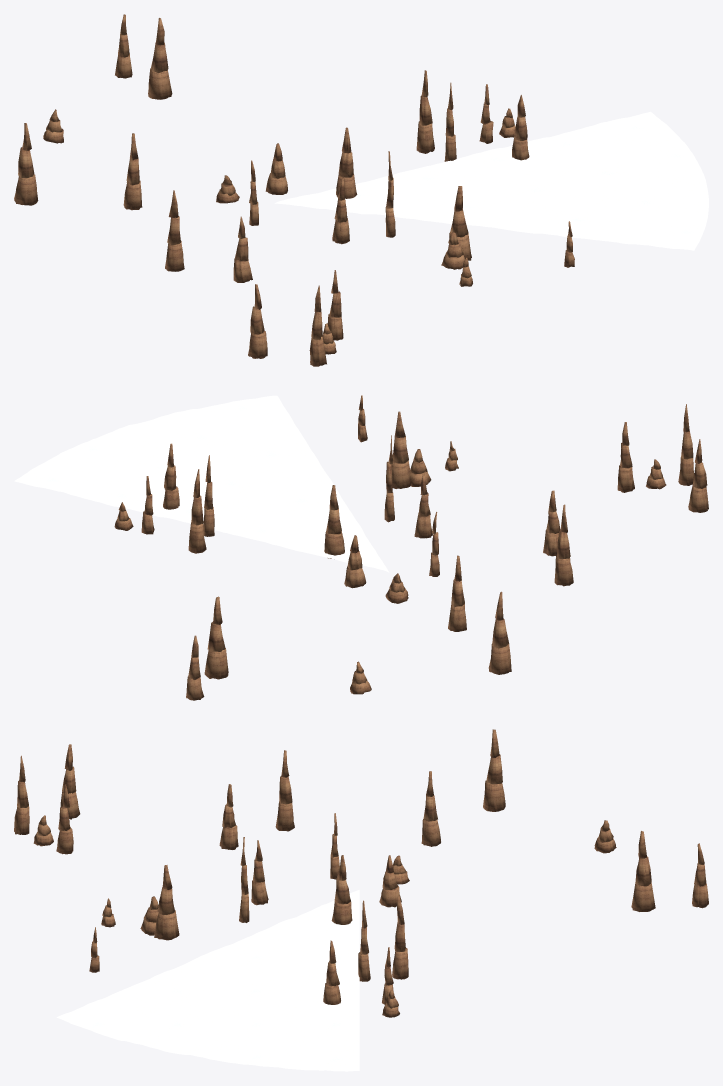
File: map_acid_02.glb
The picture shows the model from 3 angles, top to bottom: view 1: azimuth 30°, elevation 25°; view 2: azimuth 150°, elevation 25°; view 3: azimuth 270°, elevation 25°; orthographic projection.
Visible parts, largest first — view 1: AcidPool_7__acid_00, AcidSpires__cliff, AcidPool_7__acid_01; view 2: AcidPool_7__acid_00, AcidSpires__cliff, AcidPool_7__acid_01; view 3: AcidPool_7__acid_00, AcidSpires__cliff, AcidPool_7__acid_01.
Boxes of the visible parts, bbox=[...] form: AcidPool_7__acid_00: bbox=[274, 141, 708, 250]; AcidSpires__cliff: bbox=[14, 14, 574, 366]; AcidPool_7__acid_01: bbox=[276, 111, 682, 202]; AcidPool_7__acid_00: bbox=[58, 395, 389, 572]; AcidSpires__cliff: bbox=[114, 395, 708, 700]; AcidPool_7__acid_01: bbox=[14, 455, 388, 572]; AcidPool_7__acid_00: bbox=[56, 890, 358, 1068]; AcidSpires__cliff: bbox=[14, 729, 708, 1017]; AcidPool_7__acid_01: bbox=[284, 890, 359, 1071].
Bounding box in the file's own units: 521 × 75.89 × 561.
Materials: 2 (2 with a texture image).
